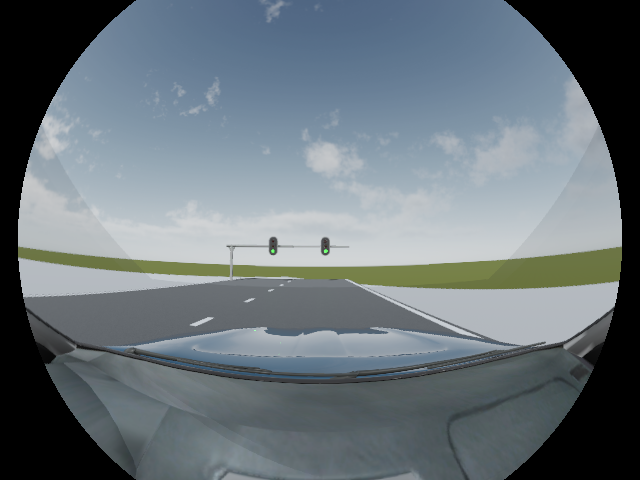Green Light: (268, 237, 278, 255), (320, 237, 330, 255)
